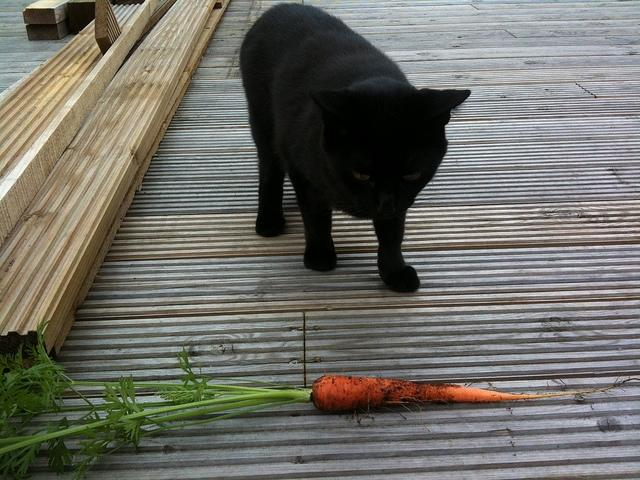carrot: (1, 317, 640, 479)
